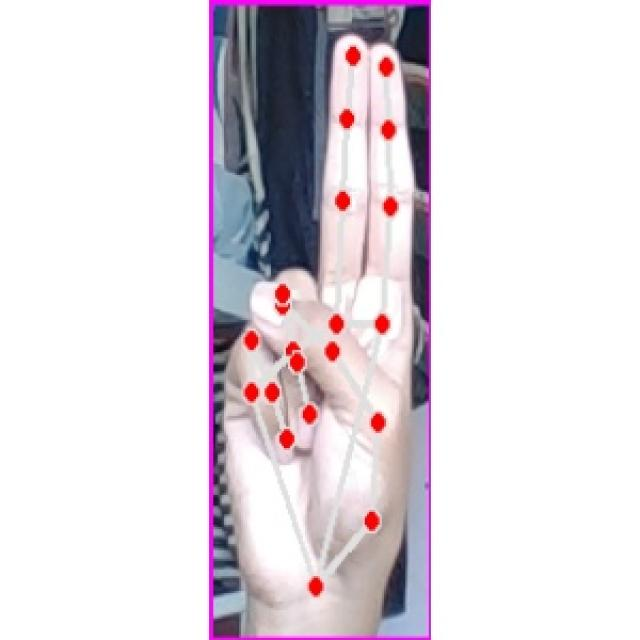U: (228, 32, 410, 605)
